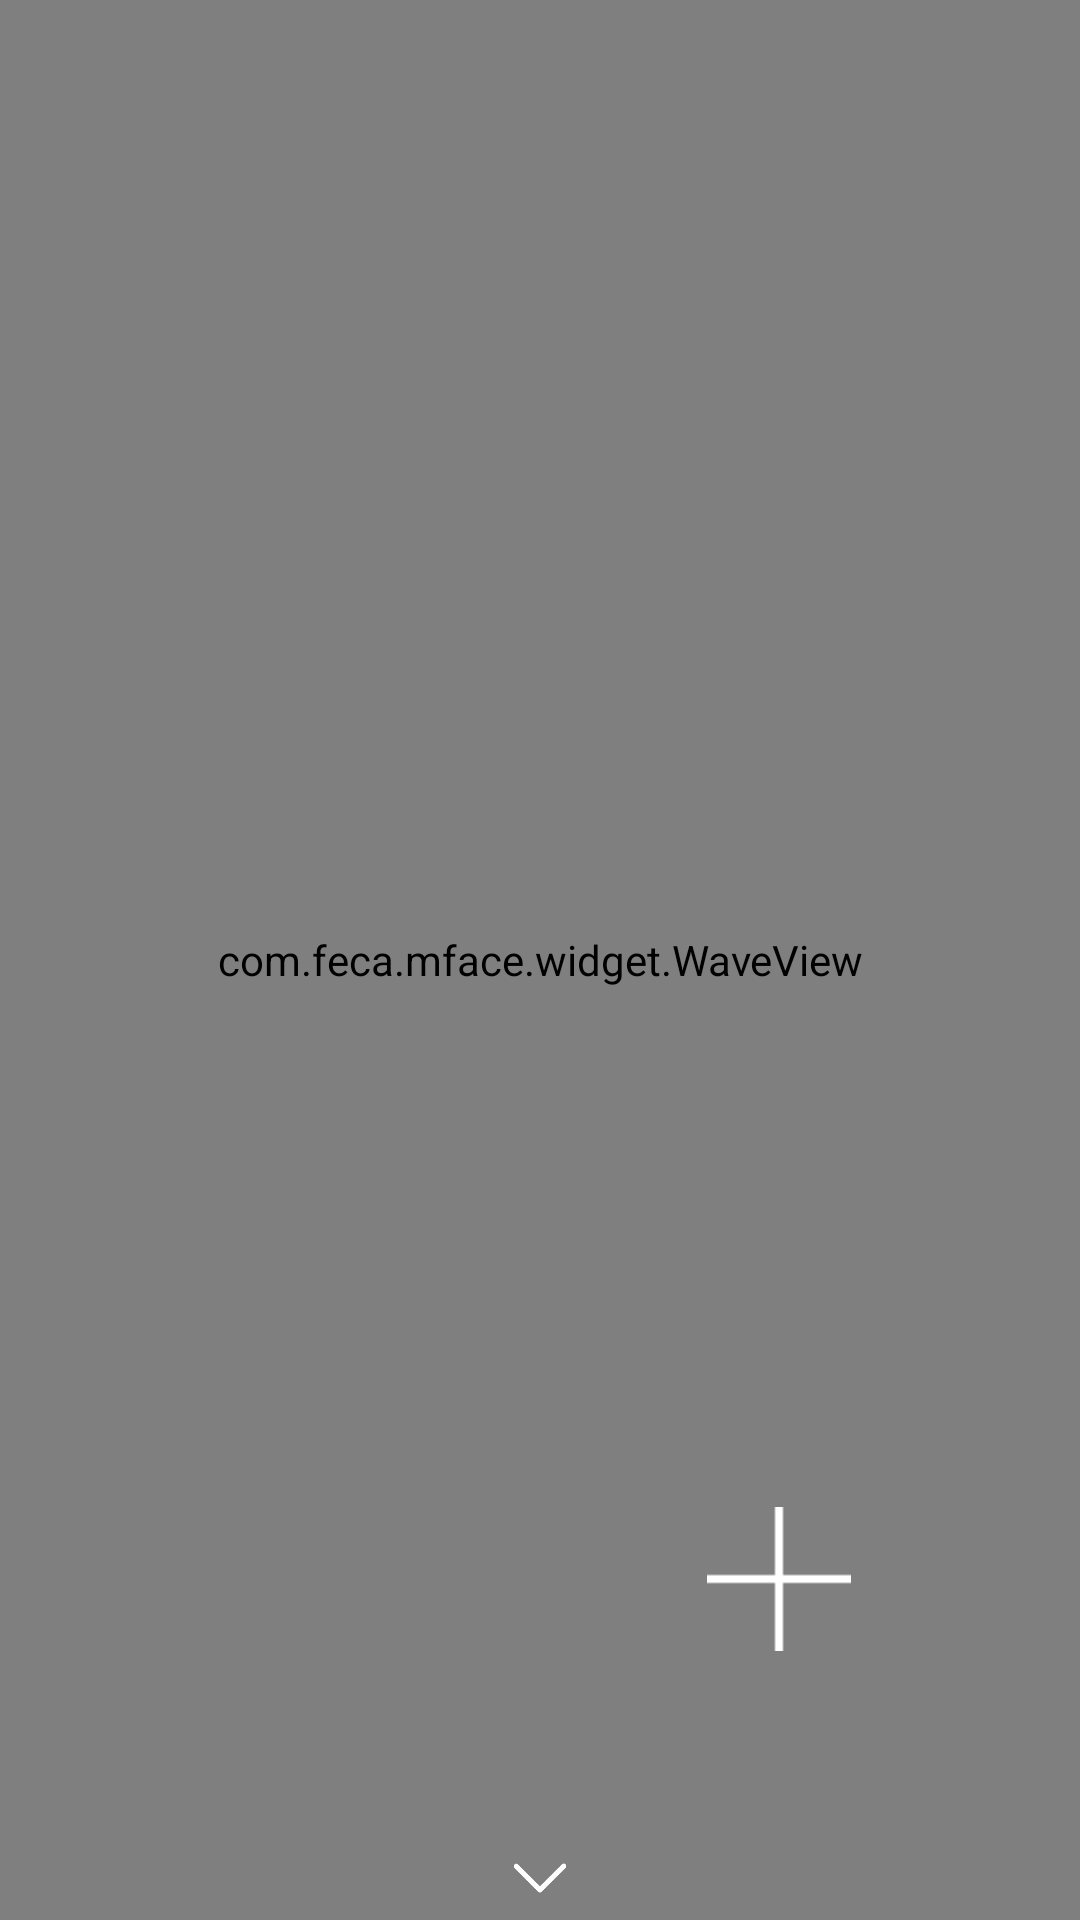

Locate icon controls on the screen. Image size 1080px×1920px, boxes as (x1=x1, y1=y1, x2=x2, y2=y2).
arrow down: (x1=514, y1=1863, x2=566, y2=1893)
plus: (x1=707, y1=1507, x2=851, y2=1651)
